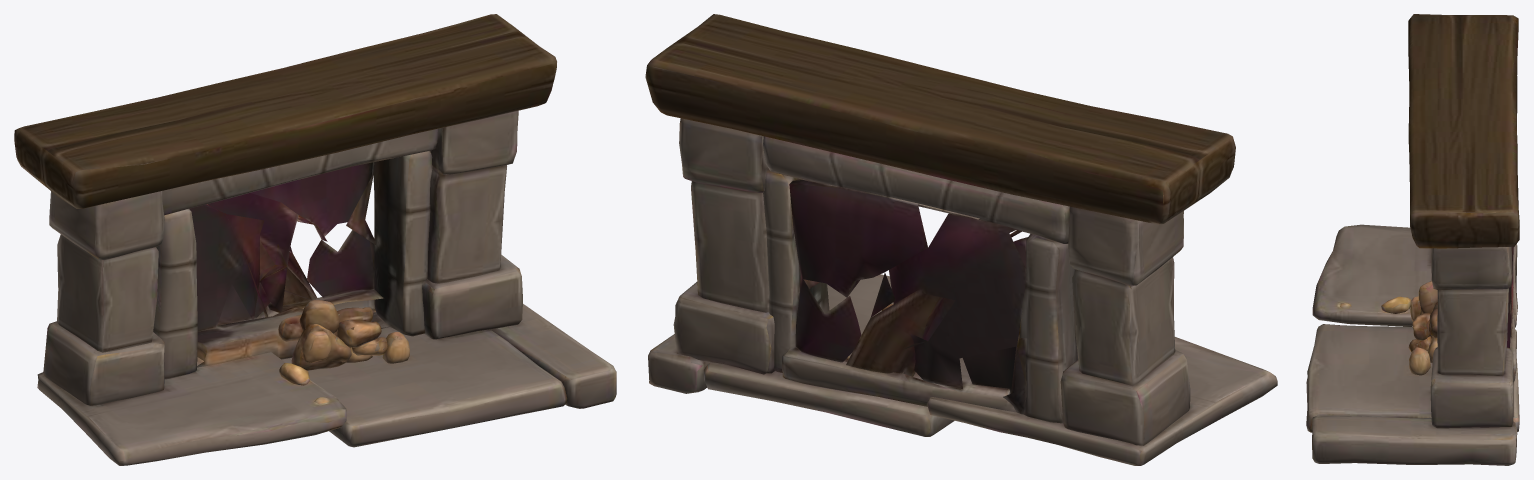
The model's file is sd_lareira.glb.
The picture shows the model from 3 angles, left to right: view 1: azimuth 30°, elevation 25°; view 2: azimuth 150°, elevation 25°; view 3: azimuth 270°, elevation 25°; orthographic projection. The views are drawn at different scales.
Visible parts, largest first — view 1: Mesh_0.005; view 2: Mesh_0.005; view 3: Mesh_0.005.
Boxes of the visible parts, box(x1,y1,x2,y2) form: Mesh_0.005: box(14, 14, 616, 465); Mesh_0.005: box(645, 14, 1277, 465); Mesh_0.005: box(1306, 14, 1519, 465).
Bounding box in the file's own units: 0.3767 × 0.2264 × 0.1702.
Materials: 1 (1 with a texture image).
